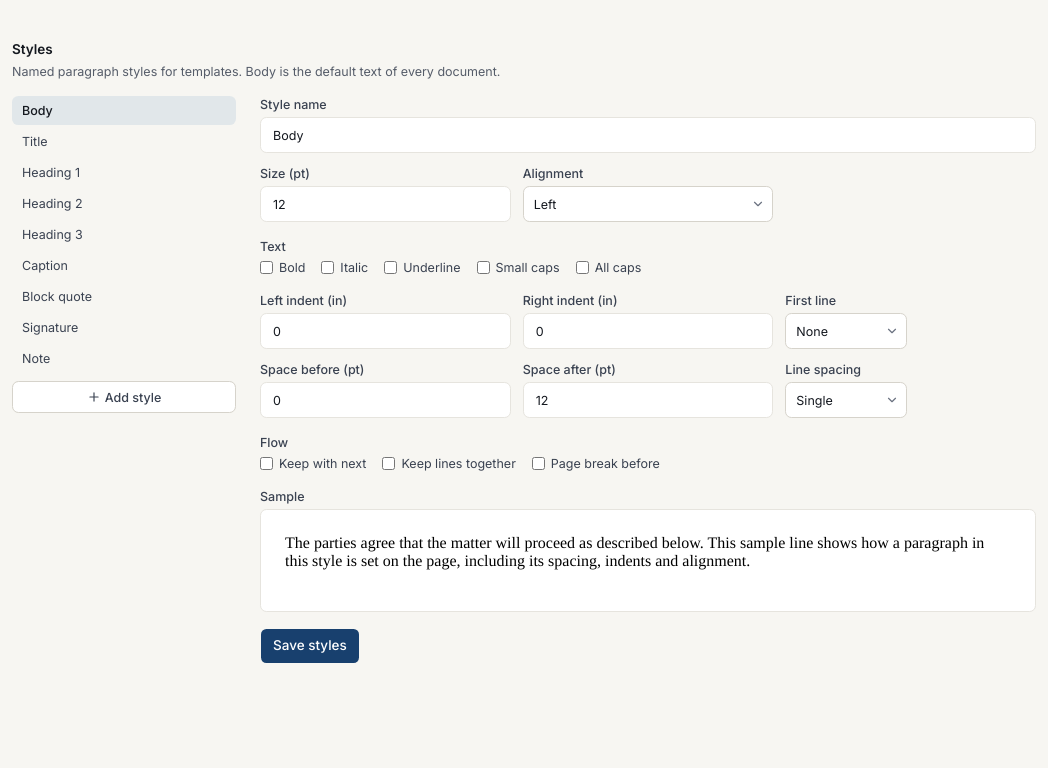
Test: ParagraphStylesForm › shows the server error and a Reload button when stale
Click the button "Save styles" at (310, 646), box [260, 628, 360, 664]
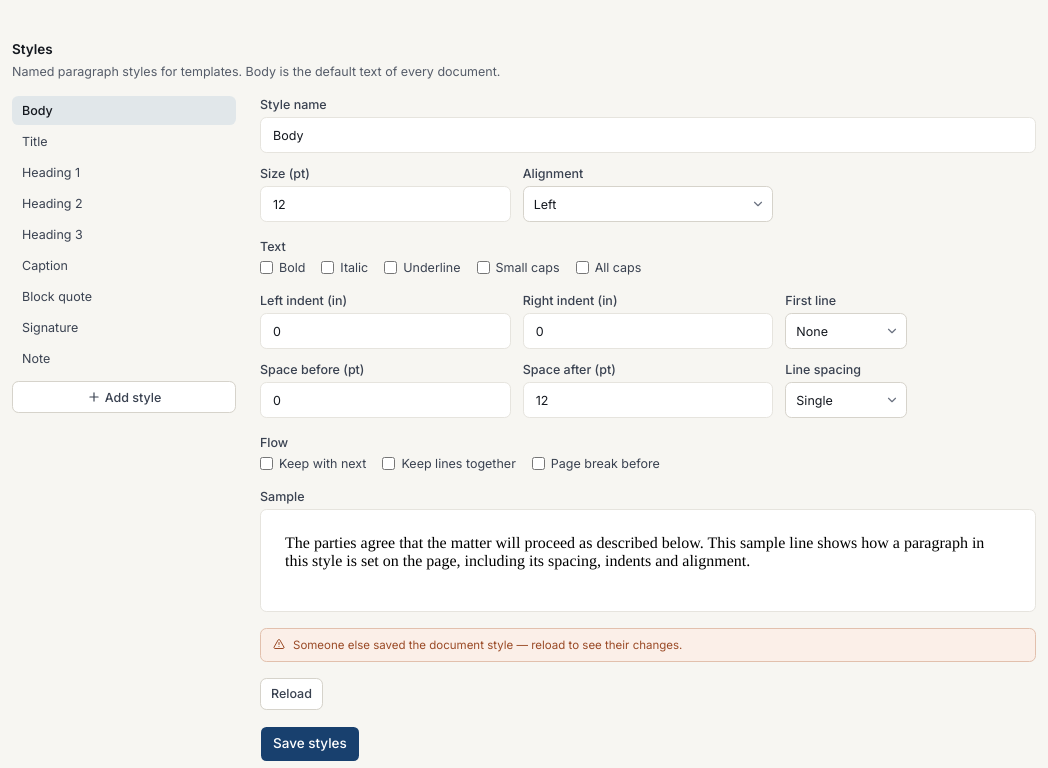
Check: the text "Someone else saved" is shown, box [293, 638, 682, 652]
Check: the button "Reload" is shown, box [260, 678, 323, 710]
